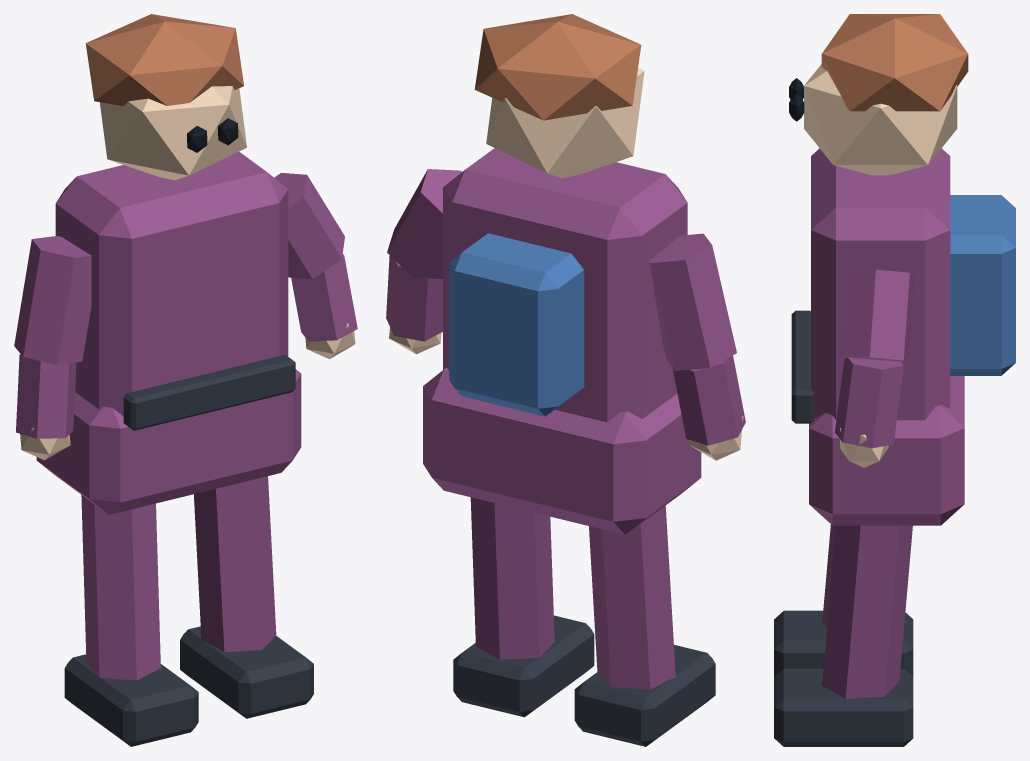
Rendered from npcs_023_seed11.glb.
The picture shows the model from 3 angles, left to right: view 1: azimuth 30°, elevation 25°; view 2: azimuth 150°, elevation 25°; view 3: azimuth 270°, elevation 25°; orthographic projection. The views are drawn at different scales.
Visible parts, largest first — view 1: npcs_023_seed11; view 2: npcs_023_seed11; view 3: npcs_023_seed11.
Part boxes in pixels (left/top/right/bottom): npcs_023_seed11: left=14, top=14, right=357, bottom=746; npcs_023_seed11: left=386, top=14, right=745, bottom=746; npcs_023_seed11: left=774, top=14, right=1015, bottom=746.
Size of the model in its own units: 0.9713 by 1.84 by 0.5898.
